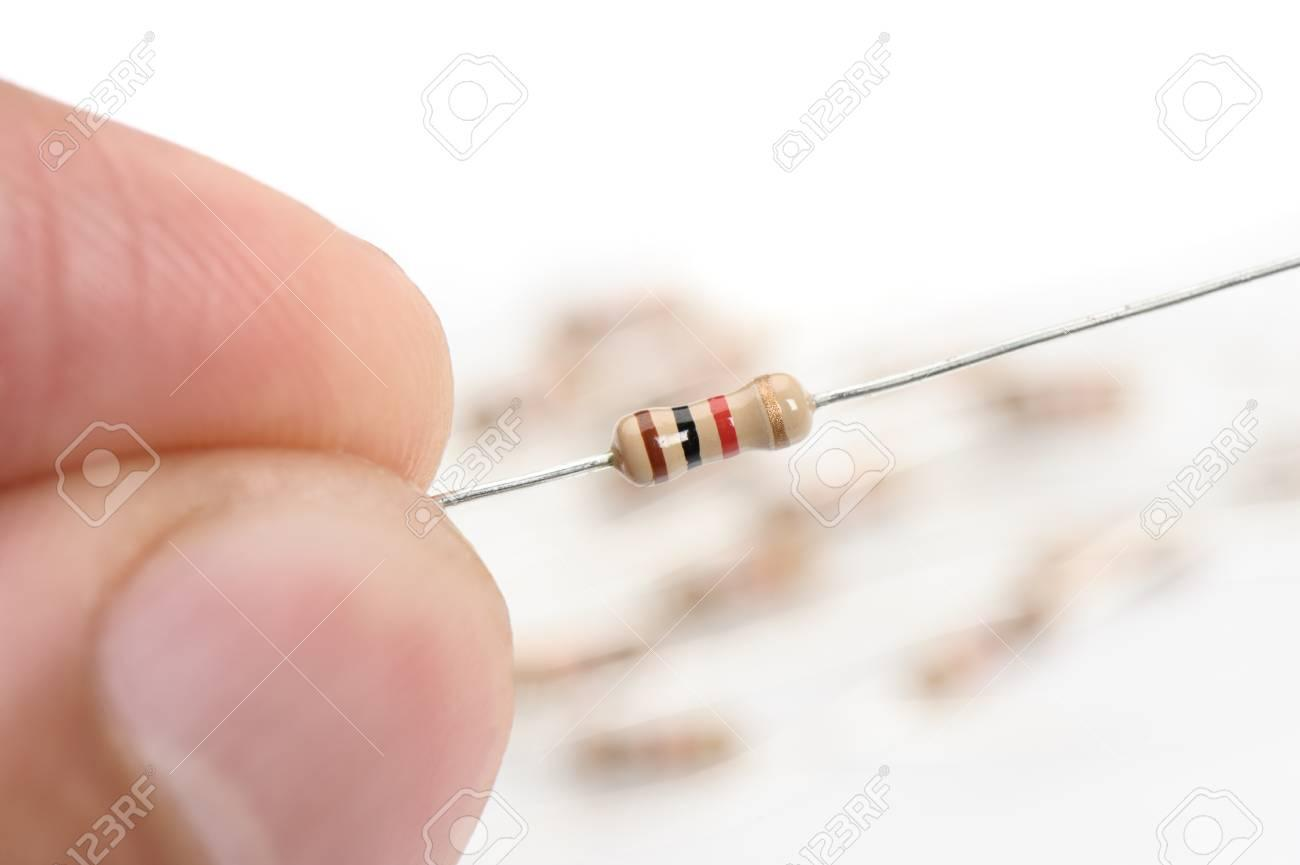resistor: (606, 363, 818, 485)
